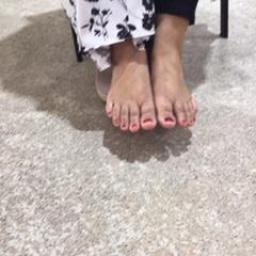Front View -Both Feet-: (97, 14, 208, 150)
